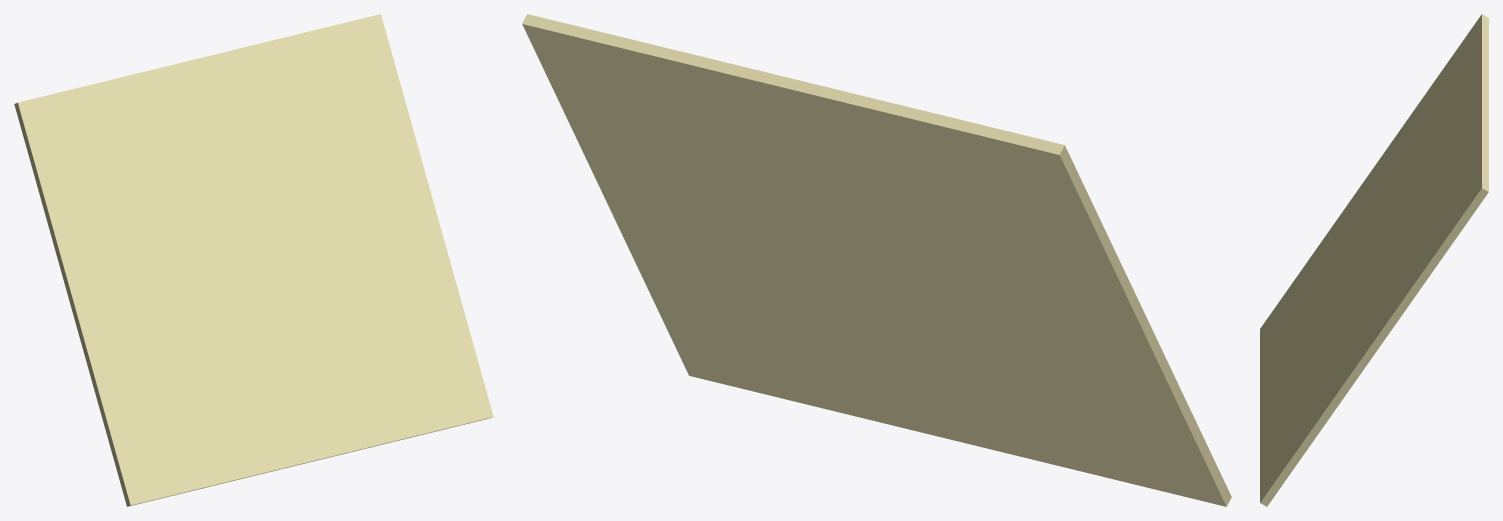
3 renders of one model, left to right at view 1: azimuth 30°, elevation 25°; view 2: azimuth 150°, elevation 25°; view 3: azimuth 270°, elevation 25°, orthographic. The views are drawn at different scales.
Parts seen in each view (by area): view 1: Plane; view 2: Plane; view 3: Plane.
Part boxes in pixels (x1,y1,x2,y2): Plane: (14,14,493,506); Plane: (522,14,1231,506); Plane: (1260,14,1488,506).
Bounding box in the file's own units: 0.3573 × 0.305 × 0.1983.
